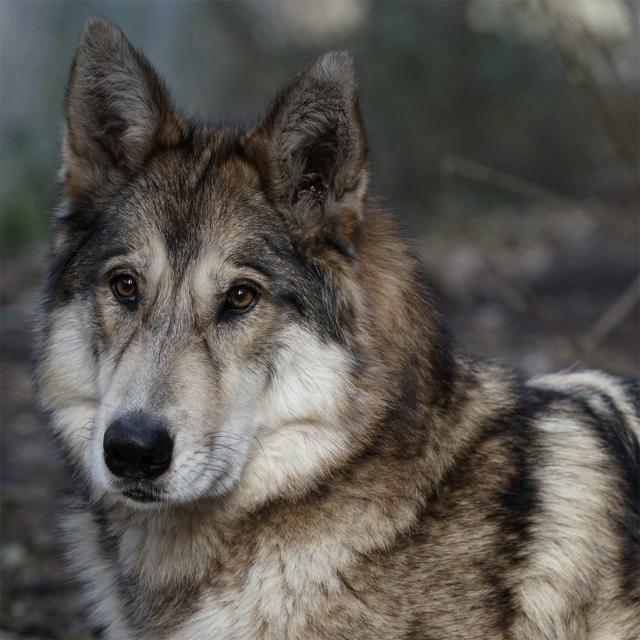dog: (36, 18, 640, 639)
